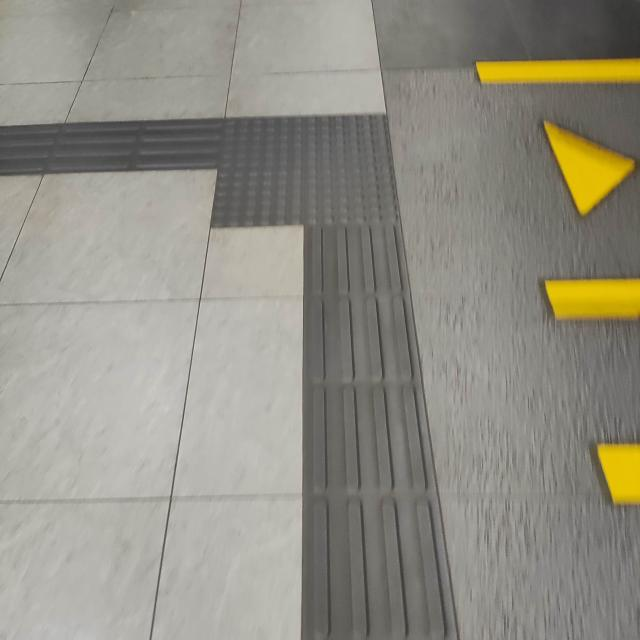kiri: (80, 67, 460, 300)
